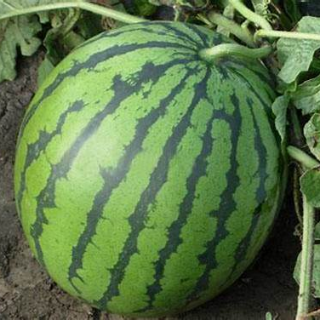dua_hau: (13, 18, 285, 317)
